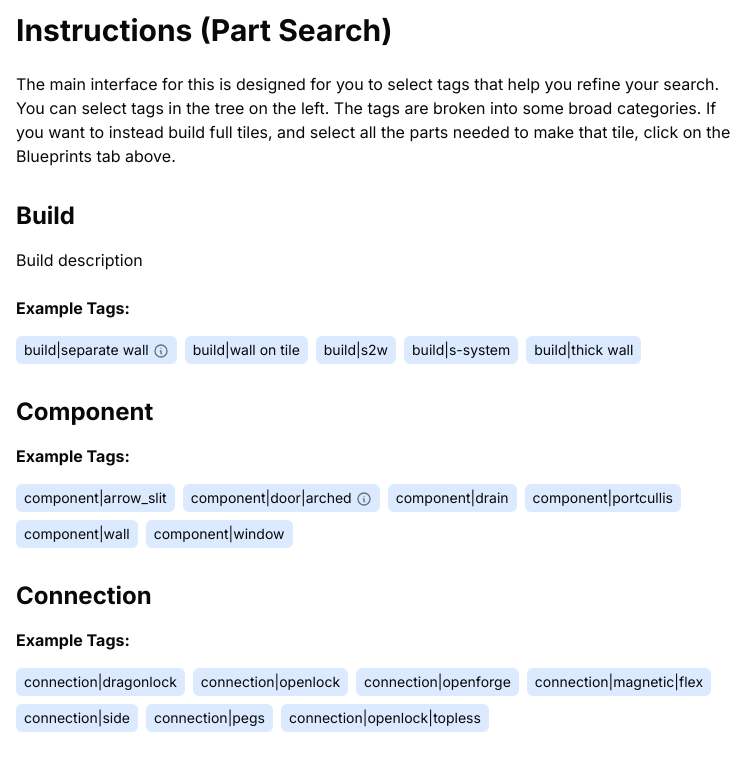
Test: InstructionsPartSearch › shows tag description tooltip on hover (with delay)
The width and height of the screenshot is (753, 766).
Hover over the button "build|separate wall": (96, 350) left=16, top=336, right=177, bottom=364
Wait 500 ms
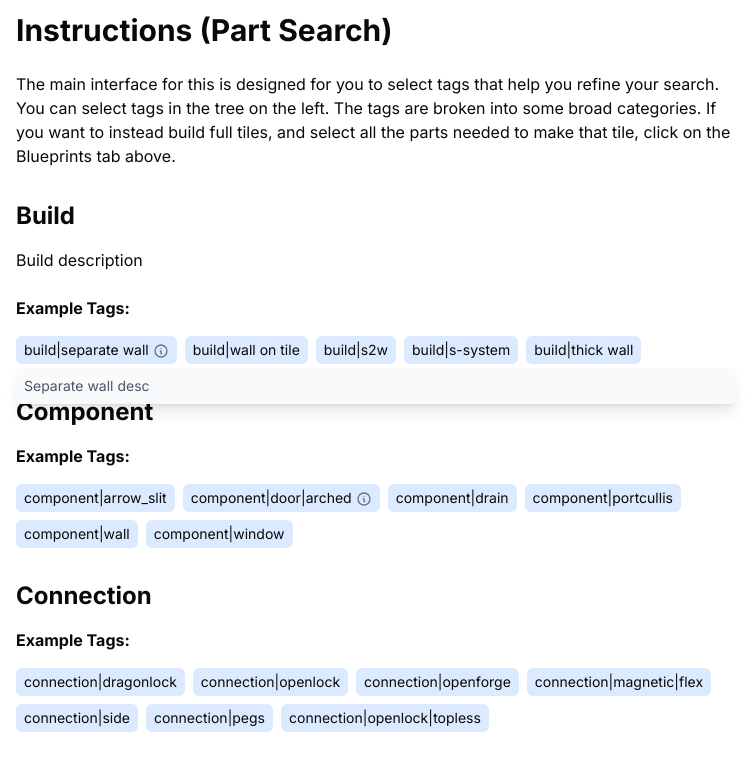
Result: the text "Separate wall desc" is shown at left=16, top=368, right=736, bottom=404
Move the pointer off the button "build|separate wall", box left=16, top=336, right=177, bottom=364
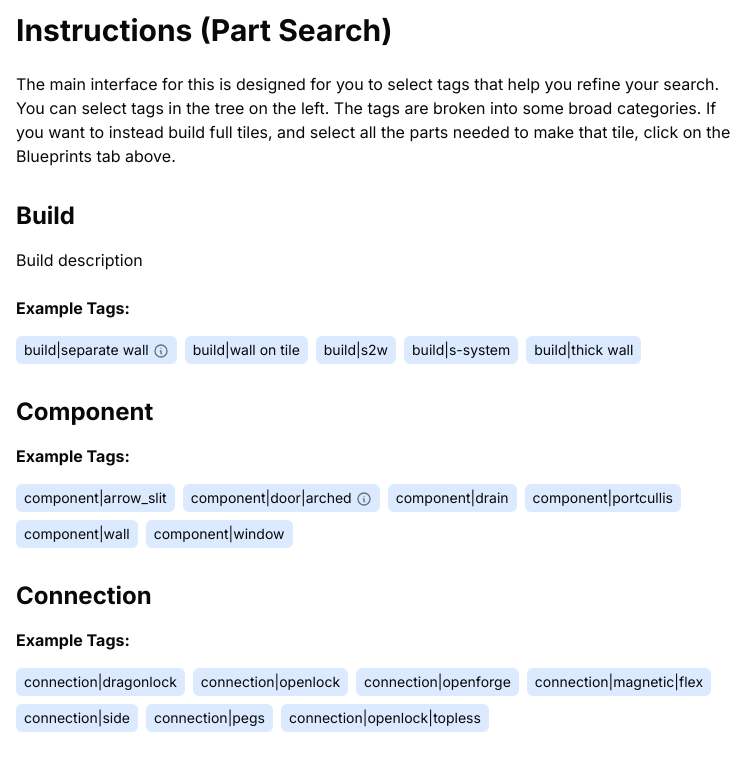
Result: the text "Separate wall desc" is gone
